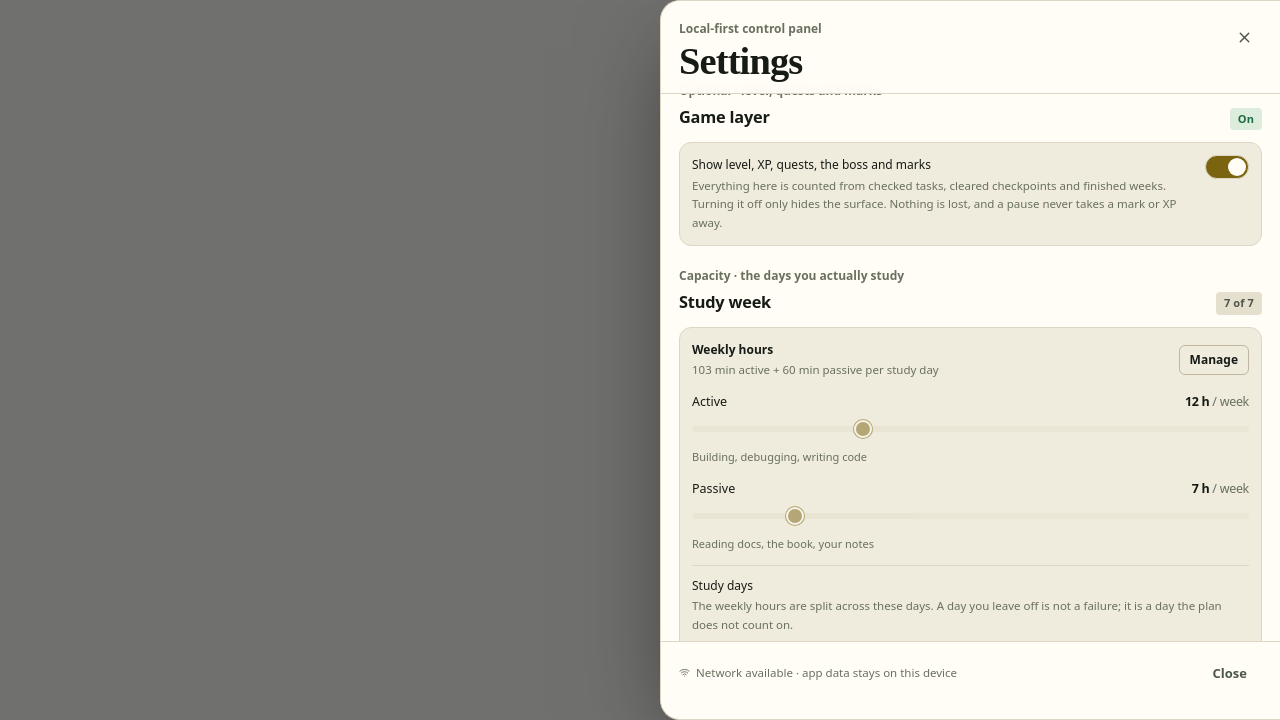
Scenario: settings storage and capacity controls › keeps weekly capacity read-only until Manage is pressed
(page scrolled)
Expected: the slider named "Active hours per week" is disabled, [692,418,1249,440]
Click the button "Manage": [1214, 360] box [1179,345,1249,375]
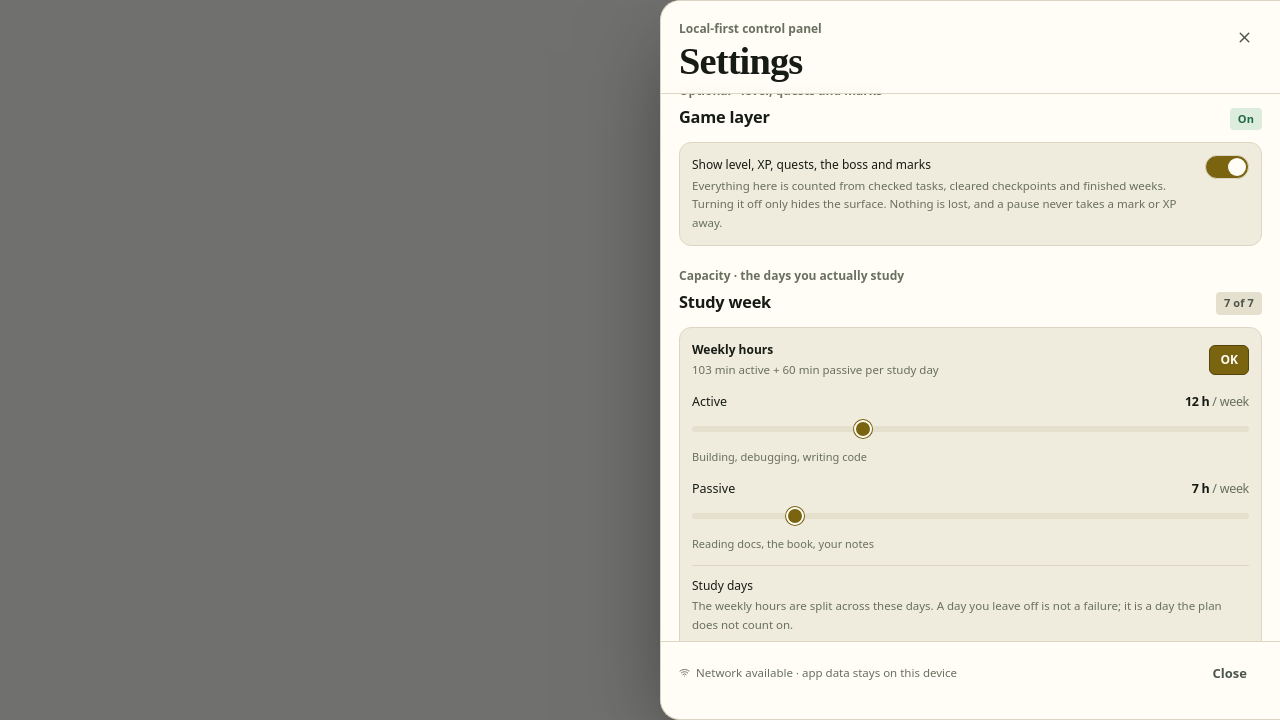
Expected: the slider named "Active hours per week" is enabled, [692,418,1249,440]
Expected: the slider named "Passive hours per week" is enabled, [692,505,1249,527]
Click the button "OK": [1229, 360] box [1210,345,1249,375]
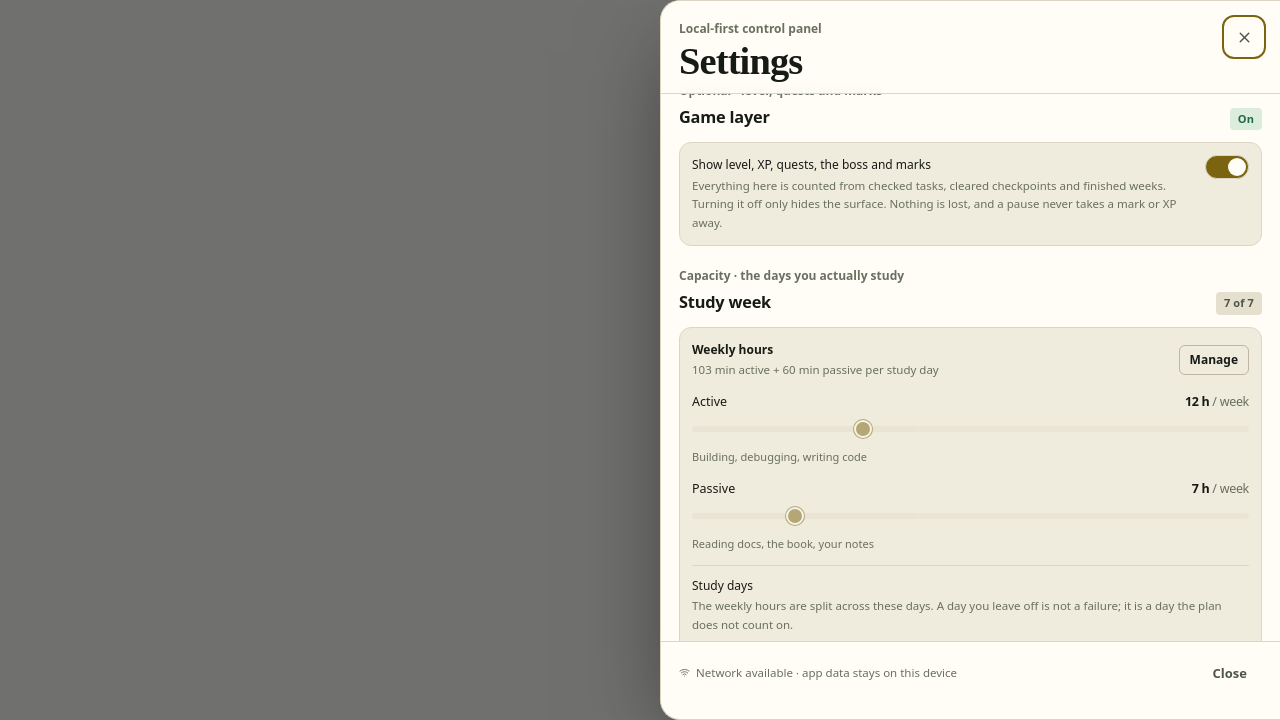
Expected: the slider named "Active hours per week" is disabled, [692,418,1249,440]
